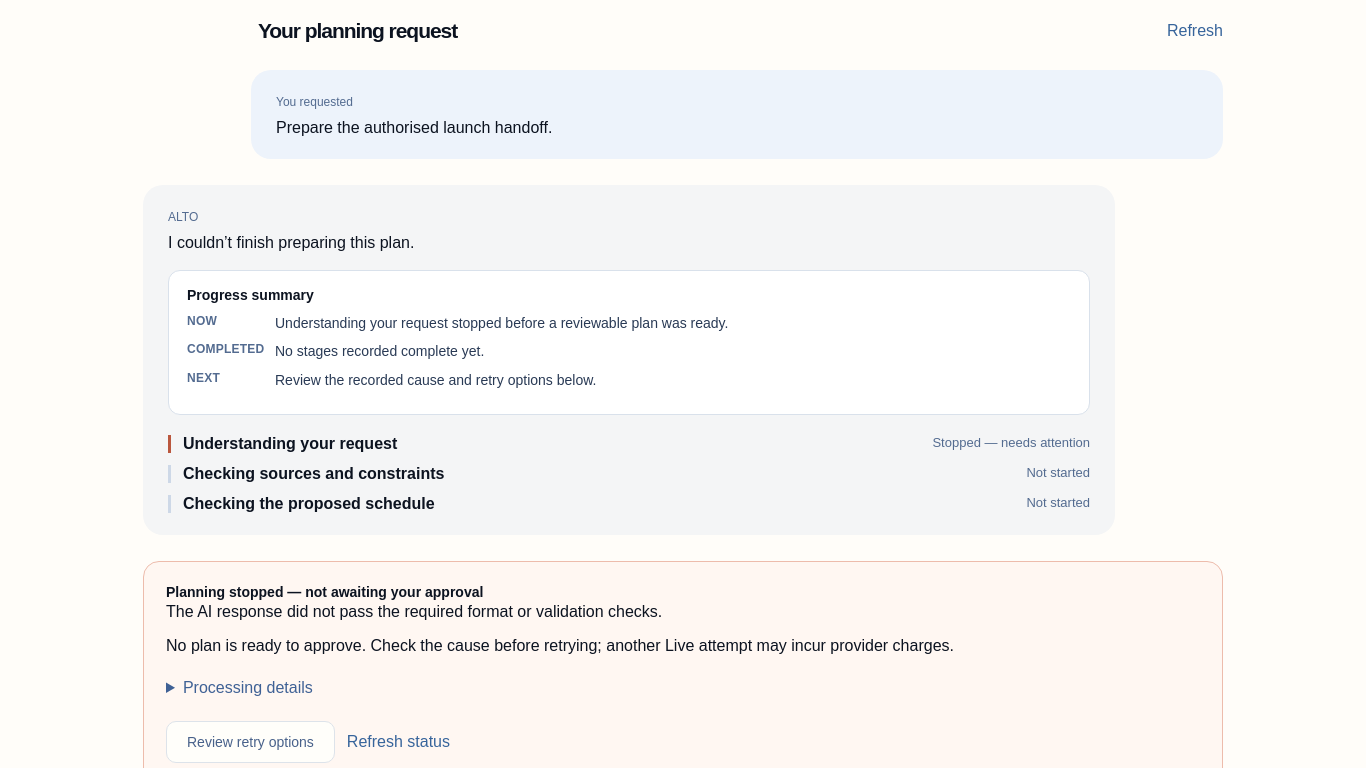
Test: durable planning conversation › does not invent a legacy AI count when metadata is null
Click the heading "Processing details". click: (248, 687)
box: [183,679,313,696]
(page scrolled)
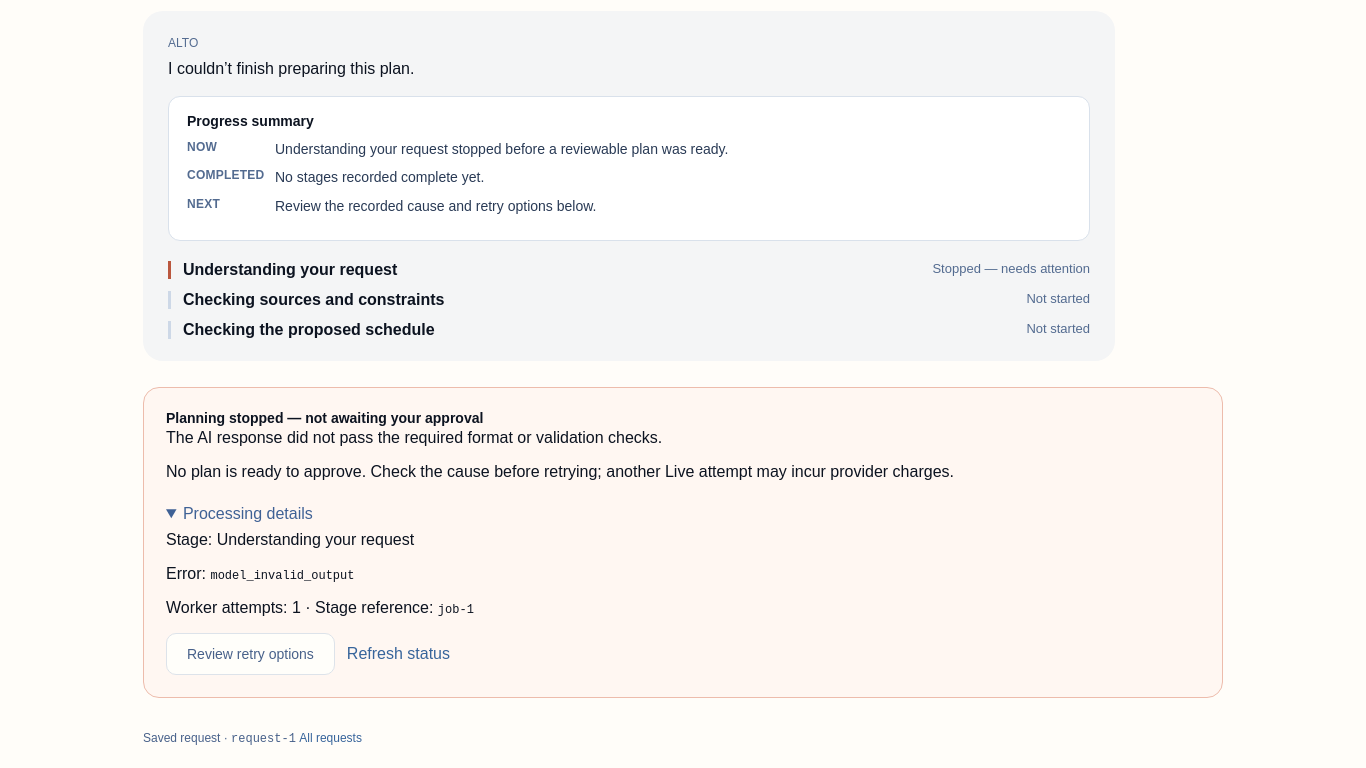
Expected: the text "Worker attempts: 1 · Stage reference: job-1" is shown, [166,599,474,617]
